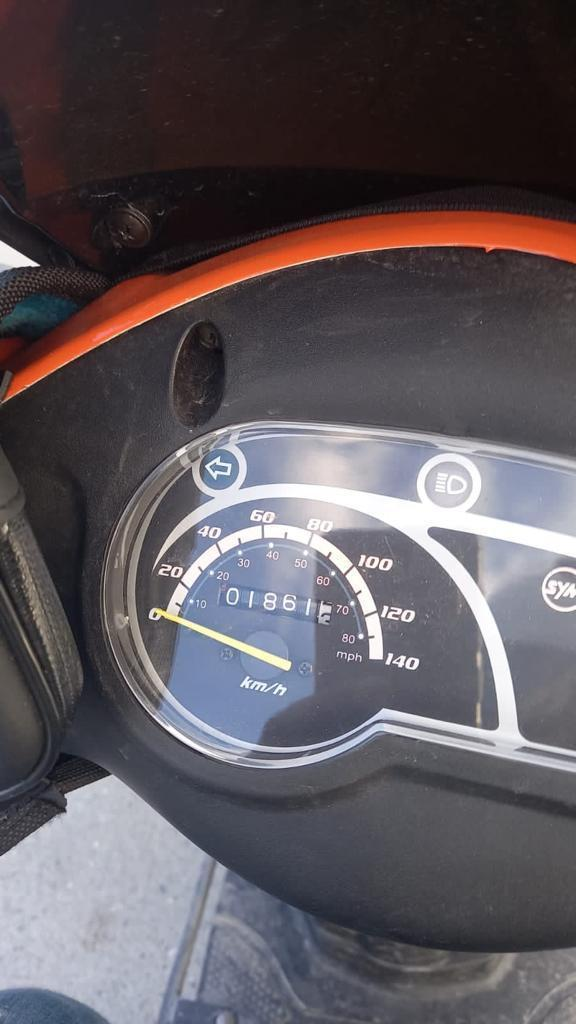0: (225, 587, 239, 605)
1: (247, 589, 254, 608), (305, 597, 311, 615)
3: (319, 612, 332, 625)
6: (282, 593, 296, 610)
8: (263, 592, 277, 611)
odometer: (216, 582, 333, 626)
